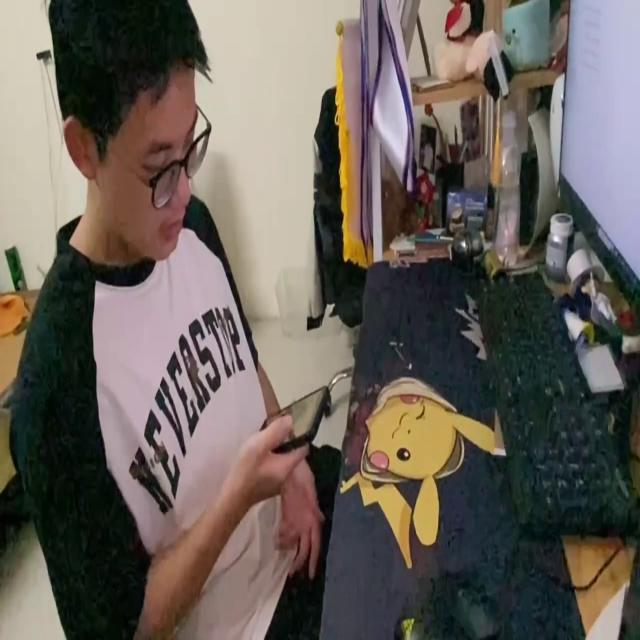laptop: (559, 7, 640, 319)
phone: (251, 380, 329, 447)
student: (11, 0, 332, 640)
